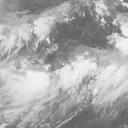cyclone: (30, 54, 100, 106)
